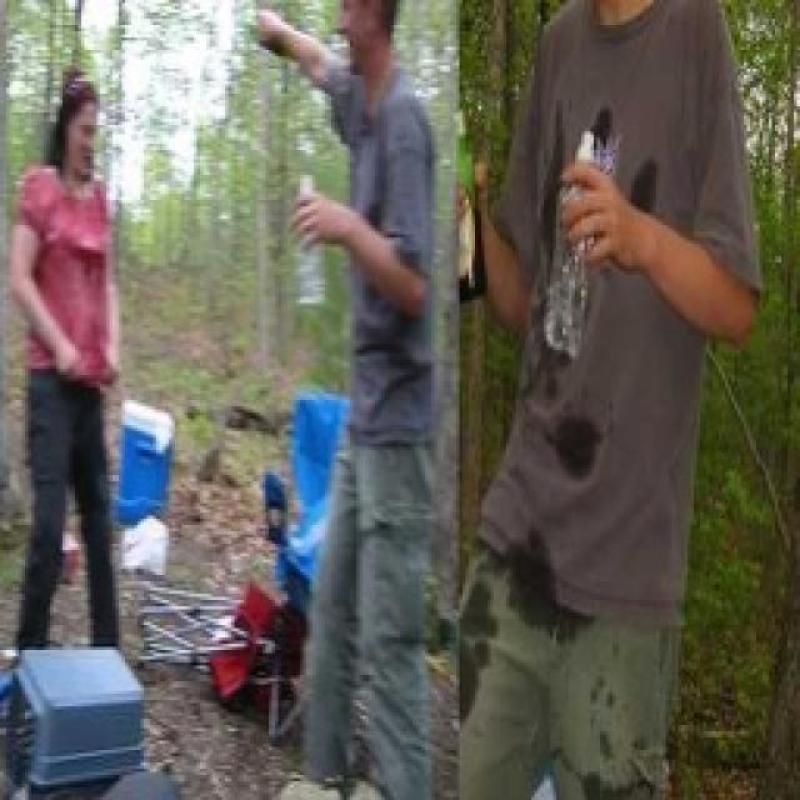botella: (543, 133, 609, 358), (294, 173, 328, 308)
